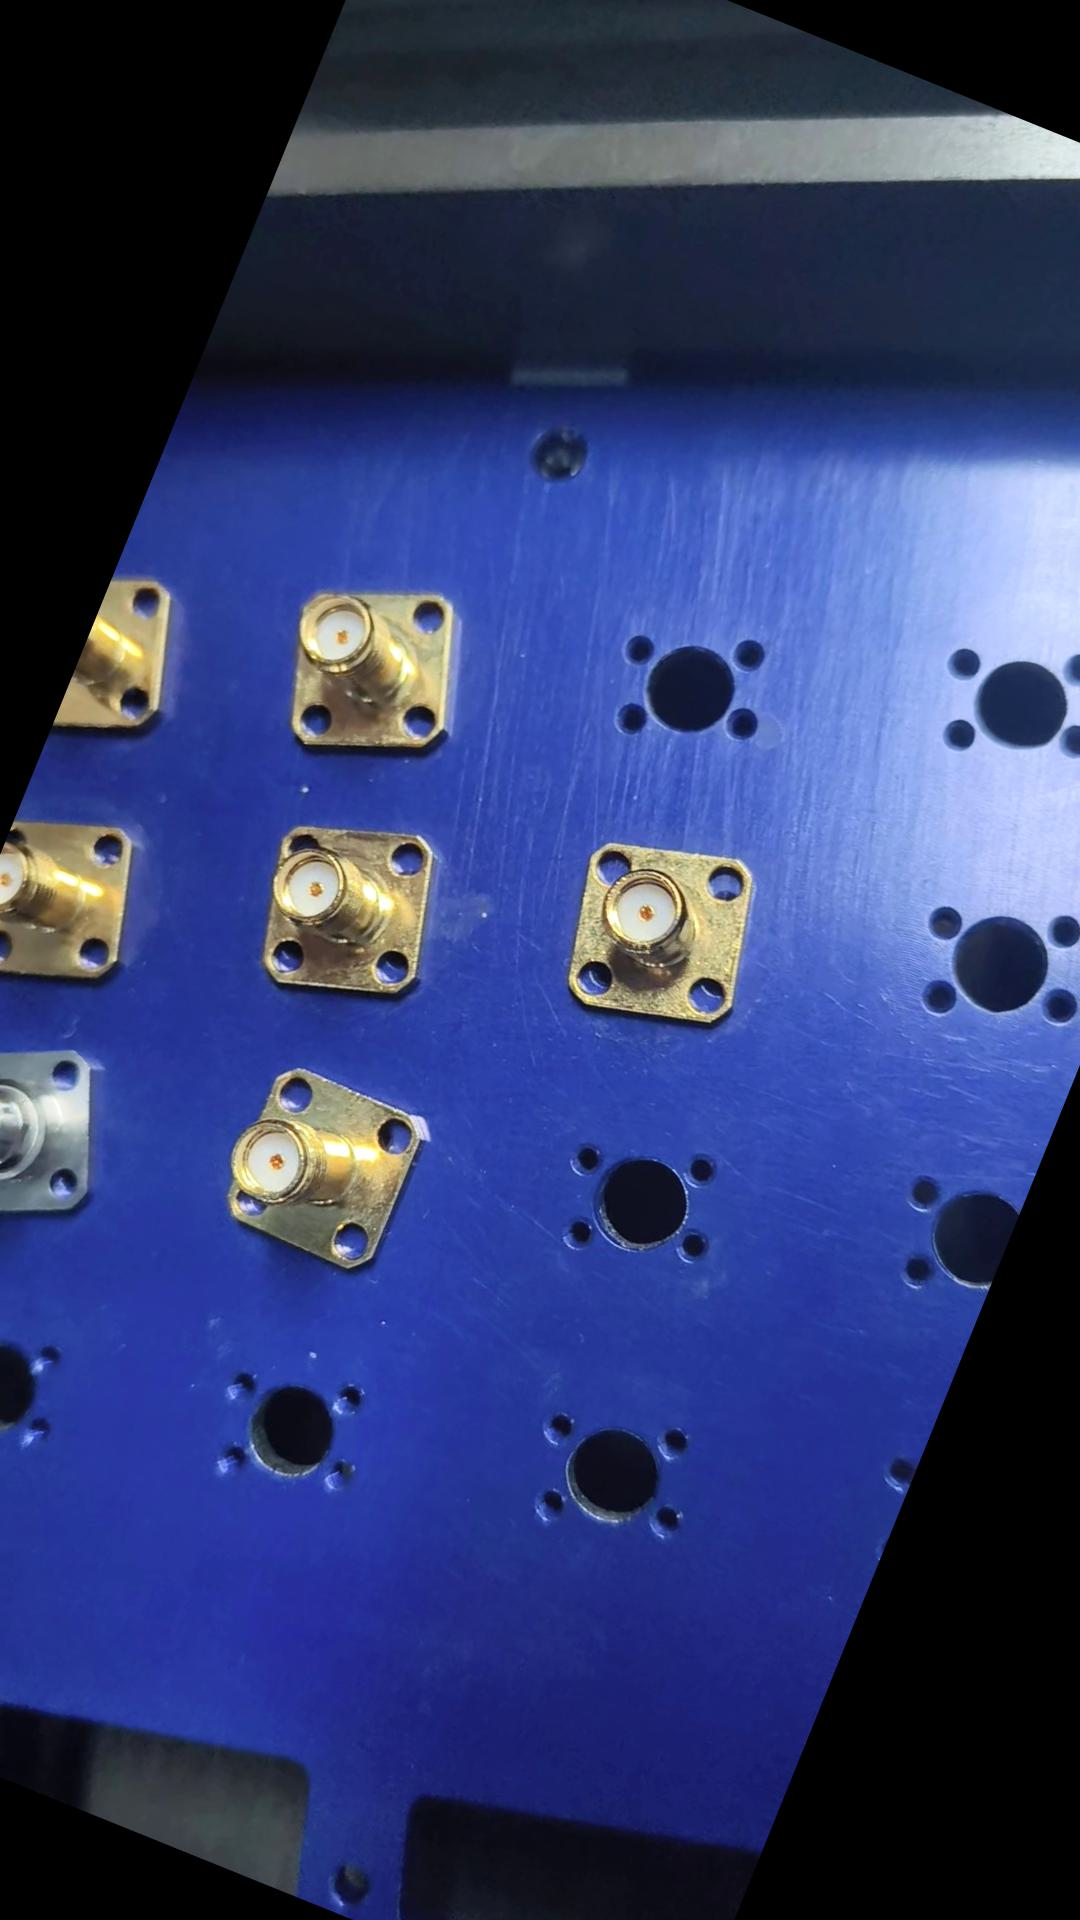SMA: (257, 547, 502, 811), (541, 804, 787, 1059), (233, 779, 473, 1035), (211, 1052, 447, 1288), (0, 787, 174, 1017), (0, 994, 144, 1262)
